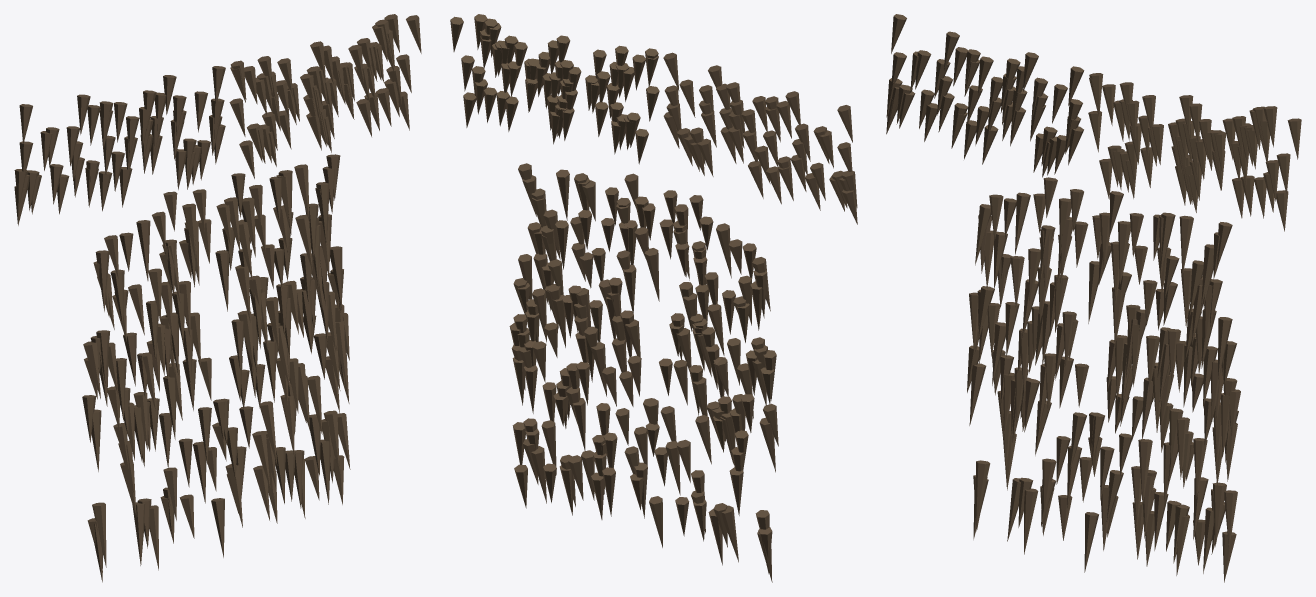
File: circle_beard.glb
3 renders of one model, left to right at view 1: azimuth 30°, elevation 25°; view 2: azimuth 150°, elevation 25°; view 3: azimuth 330°, elevation 25°, orthographic. The views are drawn at different scales.
Visible parts, largest first — view 1: no part large enough to name; view 2: no part large enough to name; view 3: p280.
Boxes of the visible parts, bbox=[...] form: p280: bbox=[1138, 439, 1152, 505].
Bounding box in the file's own units: 0.0972 × 0.1143 × 0.00944.
